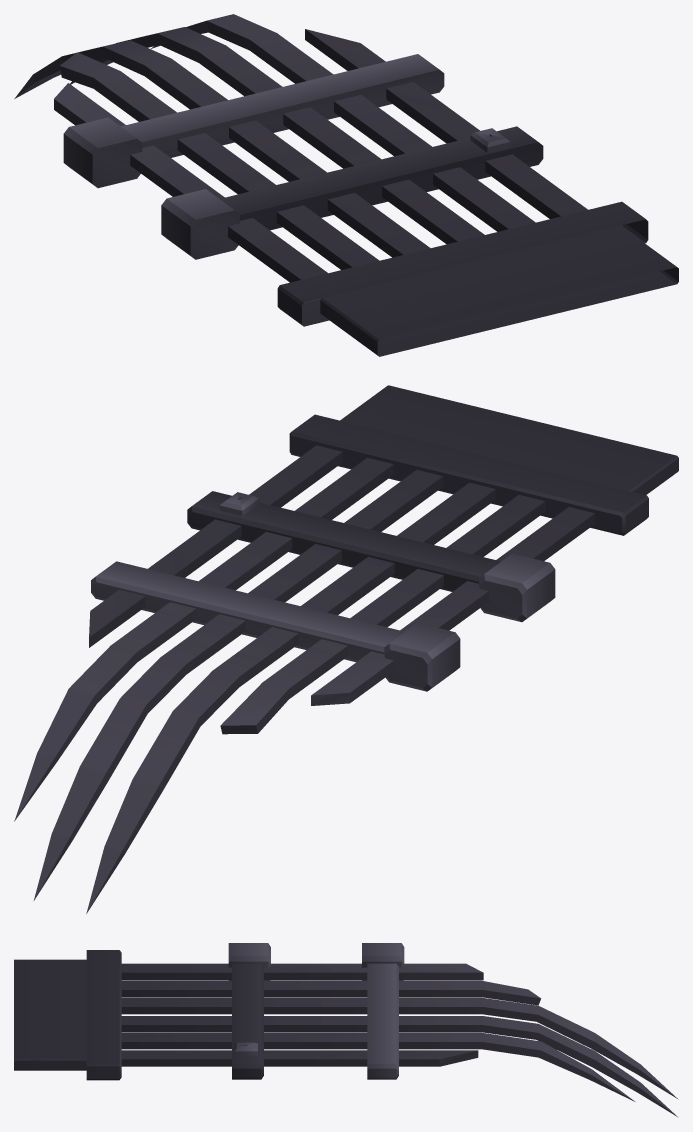
File: Fence 01 Gate 01.FBX
3 views of the same model, one above another, from view 1: azimuth 30°, elevation 25°; view 2: azimuth 150°, elevation 25°; view 3: azimuth 270°, elevation 25° (orthographic). The views are drawn at different scales.
Parts seen in each view (by area): view 1: Fence 01 Gate 01; view 2: Fence 01 Gate 01; view 3: Fence 01 Gate 01.
Boxes of the visible parts, left/top/right/bottom form: Fence 01 Gate 01: left=14, top=14, right=678, bottom=356; Fence 01 Gate 01: left=14, top=385, right=678, bottom=913; Fence 01 Gate 01: left=14, top=943, right=678, bottom=1117.
Size of the model in its own units: 148 by 62.8 by 353.
